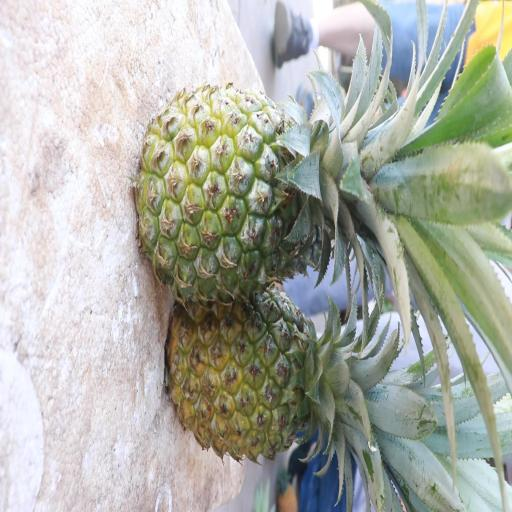------------------------------: (134, 74, 362, 293)
Pineapple - v8 v1: (169, 293, 366, 462)
